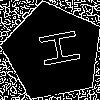H: (28, 27, 81, 72)
